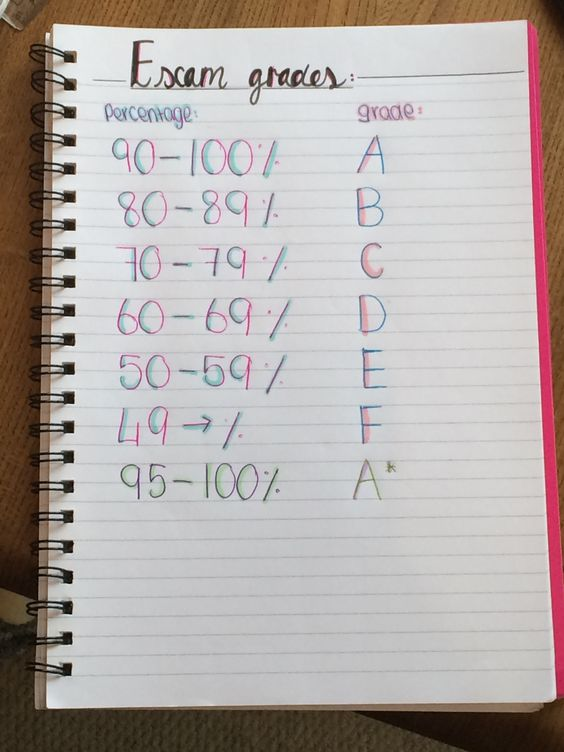page: (83, 30, 528, 702)
